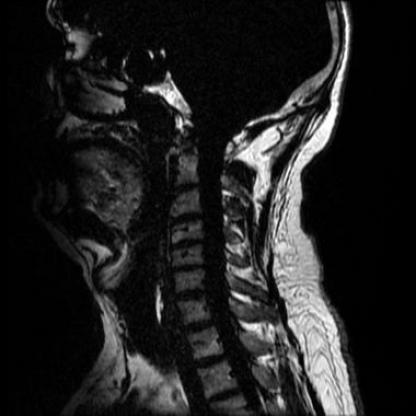Disc Protrusionrotation: (167, 211, 205, 228), (169, 261, 208, 276), (167, 237, 207, 251), (173, 286, 207, 302)
Osteophytesrotation: (167, 211, 205, 228), (169, 261, 208, 276), (167, 237, 207, 251), (173, 286, 207, 302)
